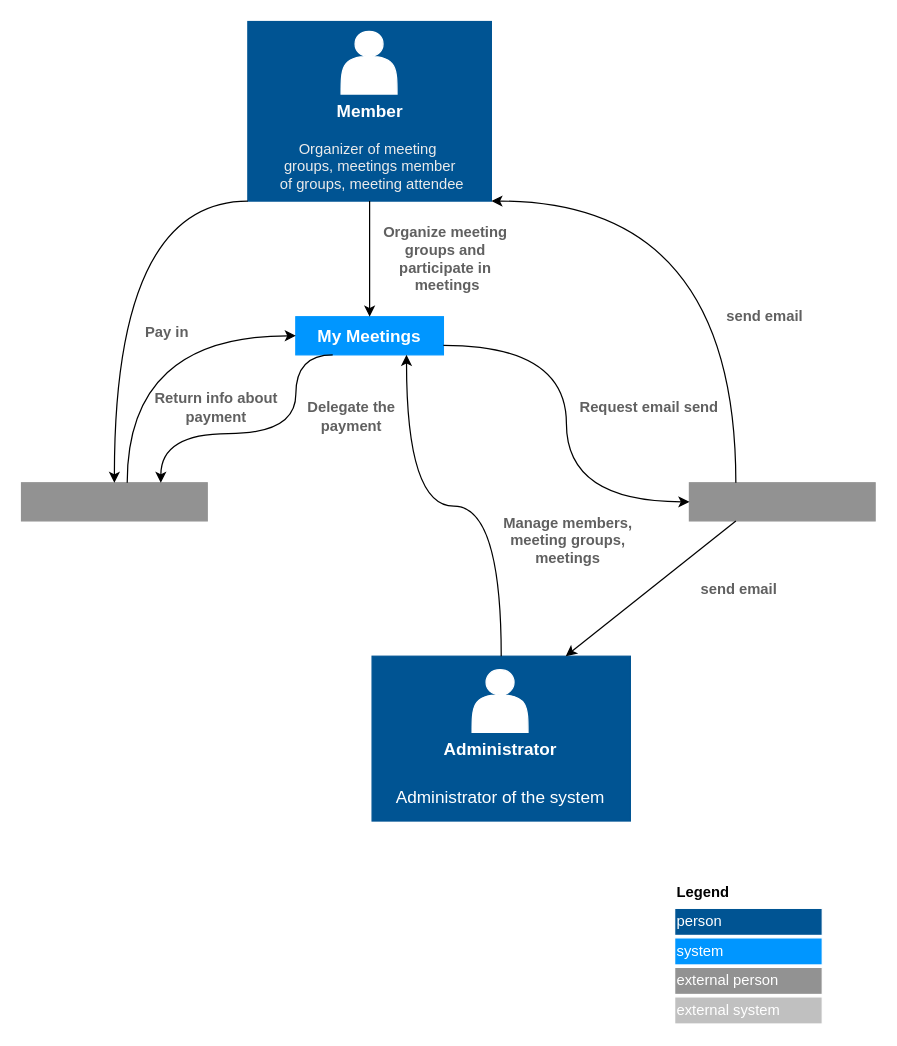
This 897x1046 diagram has some shape labels left out. The centre of each missing label's shape, as x and y in pixels:
"Email Service" belongs at (x=781, y=501).
"Payment Gateway" belongs at (x=113, y=501).
